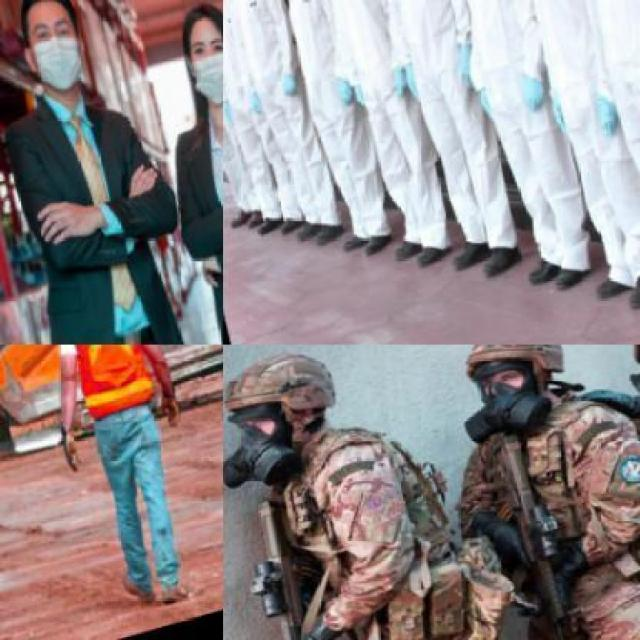hat: (223, 345, 347, 439), (445, 345, 581, 405)
